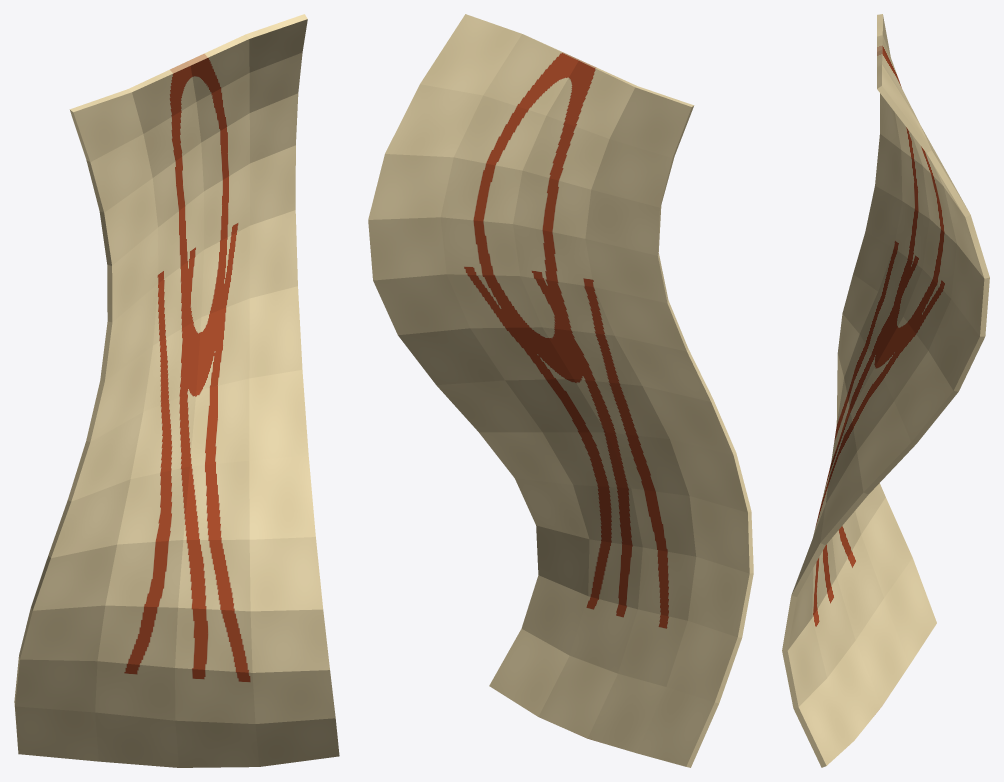
File: Test_CheonRef_Talisman.fbx
3 renders of one model, left to right at view 1: azimuth 30°, elevation 25°; view 2: azimuth 150°, elevation 25°; view 3: azimuth 270°, elevation 25°, orthographic. The views are drawn at different scales.
Parts seen in each view (by area): view 1: CurvedHanjiTalisman.001; view 2: CurvedHanjiTalisman.001; view 3: CurvedHanjiTalisman.001.
Part boxes in pixels (bbox=[...]): CurvedHanjiTalisman.001: bbox=[14, 14, 339, 767]; CurvedHanjiTalisman.001: bbox=[368, 14, 753, 767]; CurvedHanjiTalisman.001: bbox=[782, 14, 989, 767].
Size of the model in its own units: 47.95 by 100 by 27.6.
